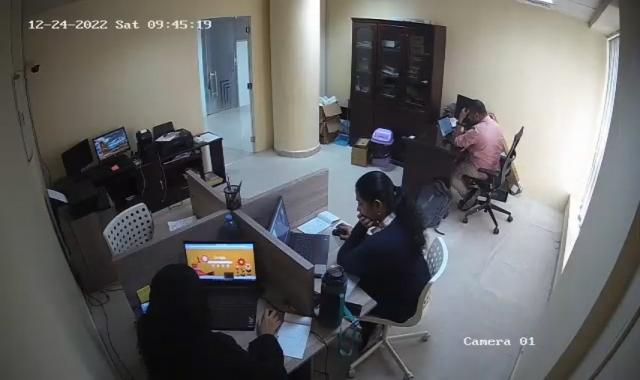no_hairnet: (148, 265, 206, 327), (354, 167, 397, 226), (463, 98, 488, 125)
